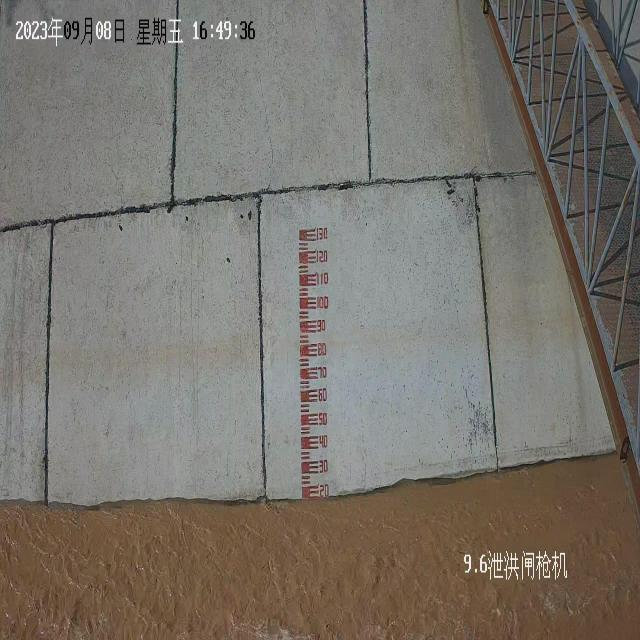ruler: (296, 220, 332, 504)
value: (315, 224, 329, 244), (316, 292, 330, 312), (315, 270, 330, 288), (315, 247, 329, 266), (318, 480, 330, 501), (316, 362, 329, 381), (316, 339, 328, 359), (317, 408, 329, 428), (318, 456, 330, 476), (316, 385, 328, 404), (318, 431, 329, 451), (316, 316, 327, 335)
